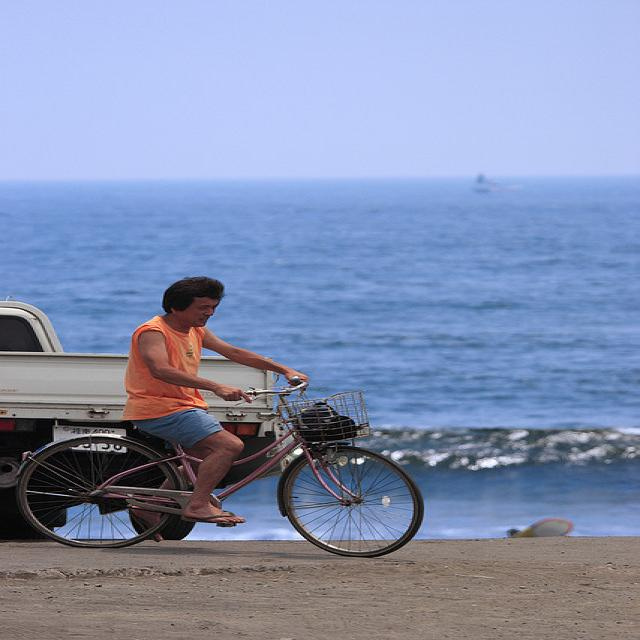Vehicle: (0, 295, 272, 543)
